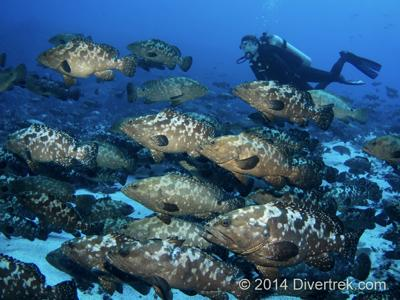Serranidae -Groupers-: (104, 233, 262, 298), (202, 211, 359, 270), (194, 128, 315, 195), (121, 170, 247, 225), (230, 72, 336, 132), (119, 108, 217, 164), (36, 35, 139, 88), (11, 188, 107, 243), (6, 121, 100, 177), (126, 74, 208, 108), (128, 33, 196, 64)
